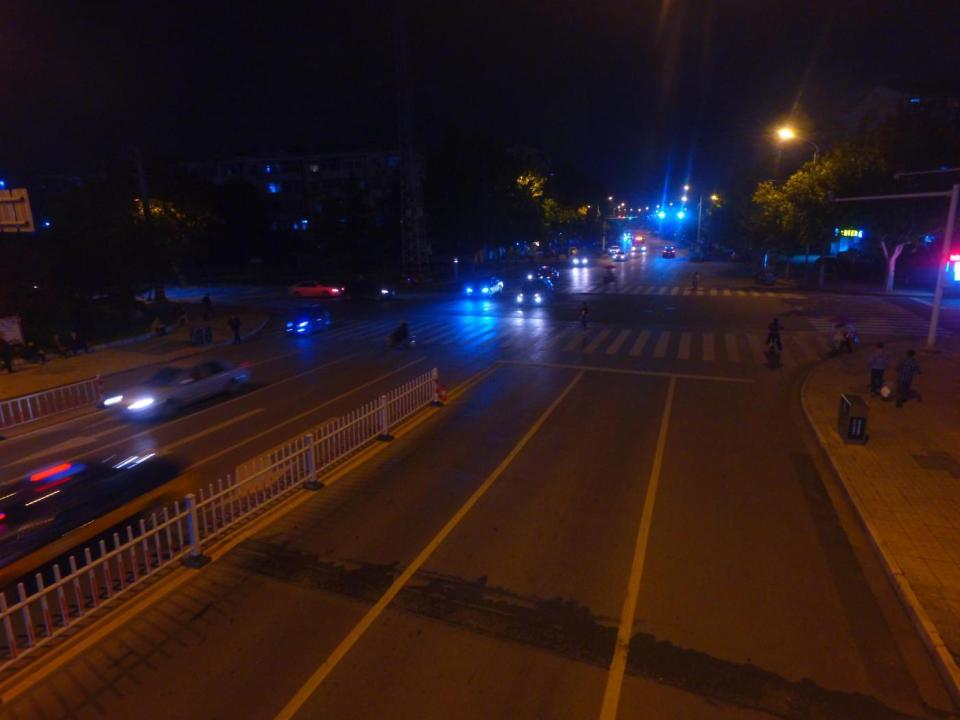bus: (629, 236, 648, 253)
car: (0, 446, 180, 601), (108, 354, 249, 422), (285, 305, 329, 338), (348, 276, 395, 304), (286, 278, 343, 297), (516, 279, 554, 307), (464, 276, 504, 298), (532, 263, 560, 286), (836, 251, 871, 268), (812, 257, 847, 272), (572, 253, 592, 268), (730, 250, 754, 262), (661, 245, 676, 259), (612, 251, 626, 262), (608, 244, 620, 255), (622, 232, 634, 240)
